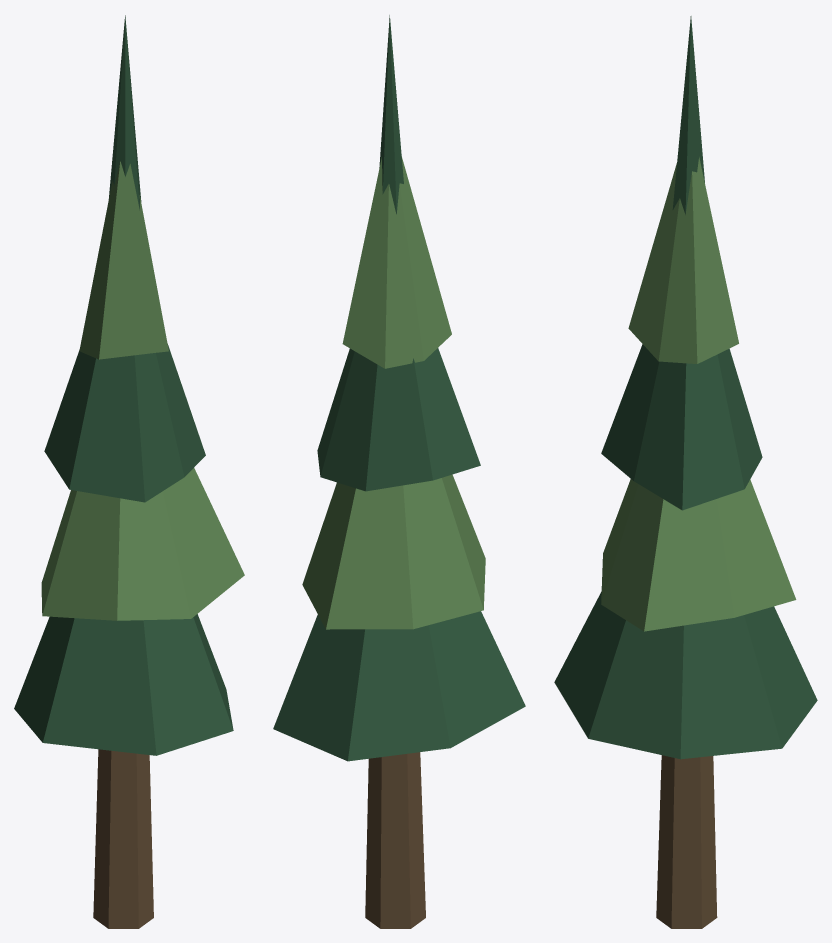
Rendered from pine-tree.glb.
3 views of the same model, side by side, from view 1: azimuth 30°, elevation 25°; view 2: azimuth 150°, elevation 25°; view 3: azimuth 270°, elevation 25° (orthographic).
Parts seen in each view (by area): view 1: pine-tree; view 2: pine-tree; view 3: pine-tree.
Part boxes in pixels (x1=…): pine-tree: x1=14, y1=15, x2=244, y2=928; pine-tree: x1=273, y1=15, x2=525, y2=928; pine-tree: x1=554, y1=16, x2=817, y2=928.
Size of the model in its own units: 1.33 by 5.58 by 1.47.
